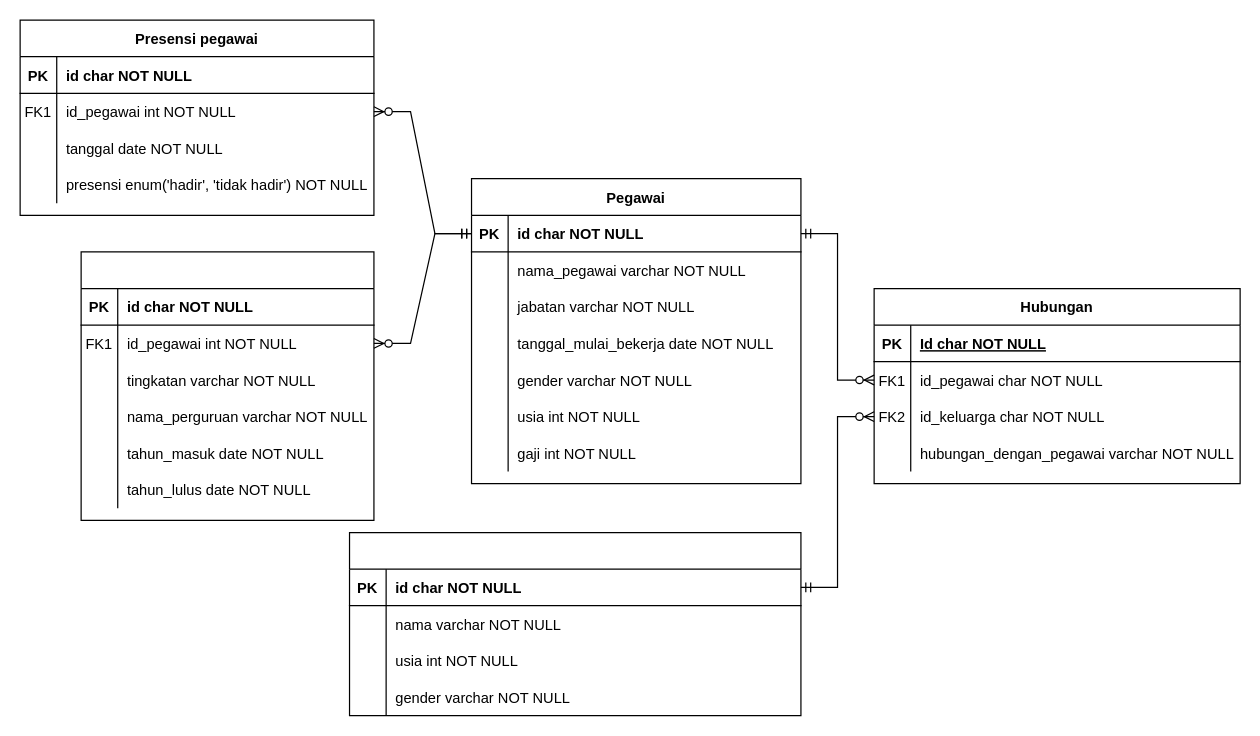
Image size: 1260x736. Some labels were removed from this diagram. The shapes that lost their labels are listed below. From the top down, each one's box as (x1, y1, x2, y2) in pixels, then its label:
(80, 251, 374, 520): Riwayat pendidikan pegawai
(348, 531, 801, 716): Keluarga Pegawai
